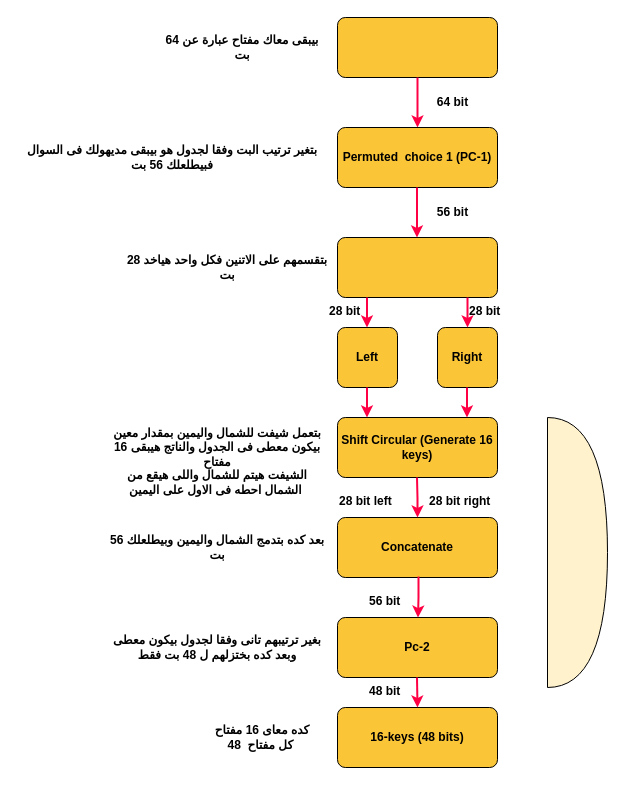
Image size: 625x785. Some labels were removed from this diagram. Each missing label, with the box of its shape:
64 bit Key(16 hexa decimal): (336, 16, 498, 78)
key (56 bit): (336, 236, 498, 298)
الجزء ده هيتم 16 مرة: (546, 416, 608, 688)
